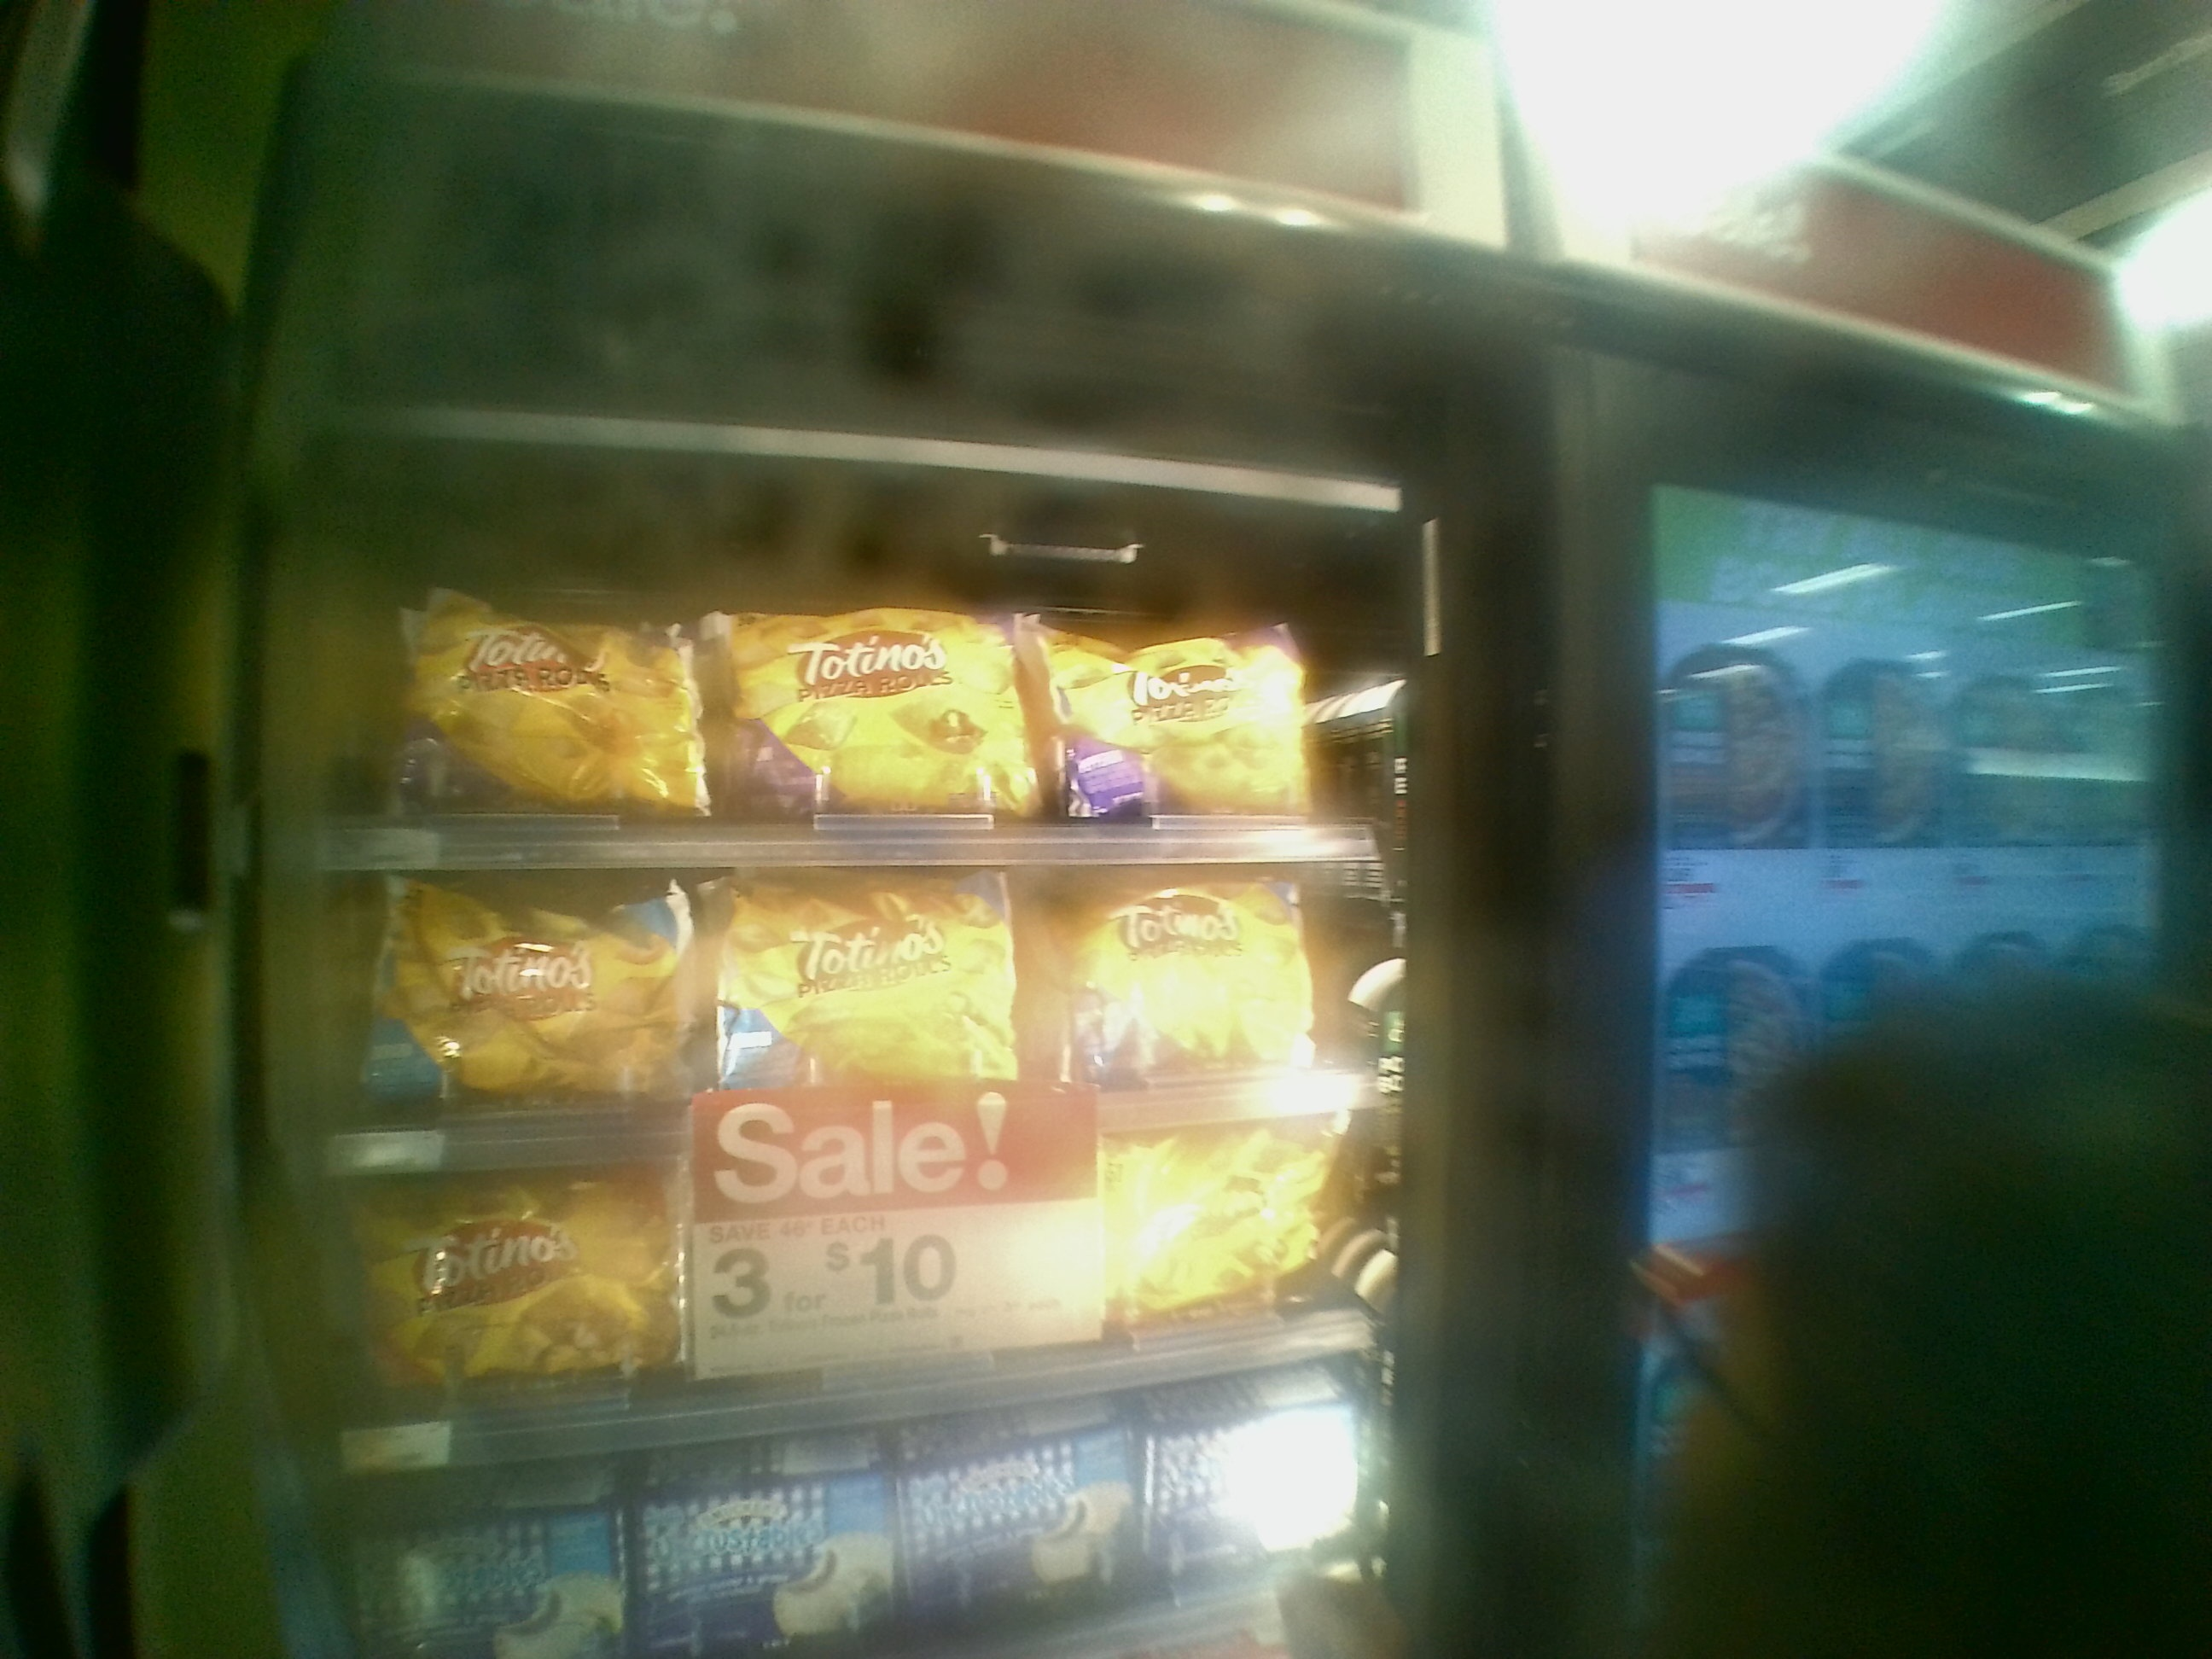shelf: (324, 507, 1388, 866), (333, 856, 1395, 1166), (319, 1175, 1400, 1422)
